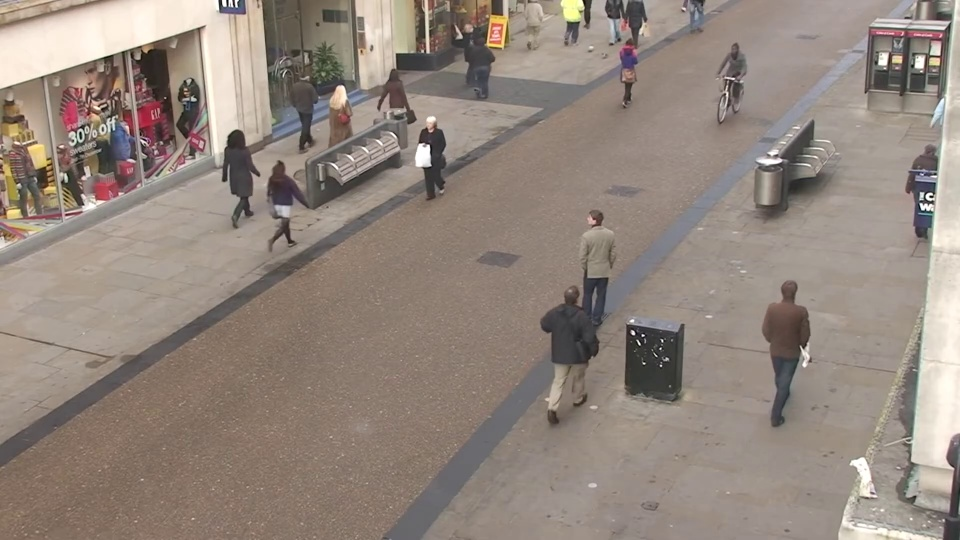pedestrian: (765, 267, 815, 403), (557, 270, 601, 407), (576, 204, 614, 324), (284, 152, 322, 256), (228, 120, 265, 215), (412, 115, 446, 210), (332, 78, 363, 162), (297, 67, 328, 148), (385, 62, 414, 142), (708, 46, 736, 124), (469, 33, 495, 106), (620, 31, 645, 104), (458, 20, 483, 89)
